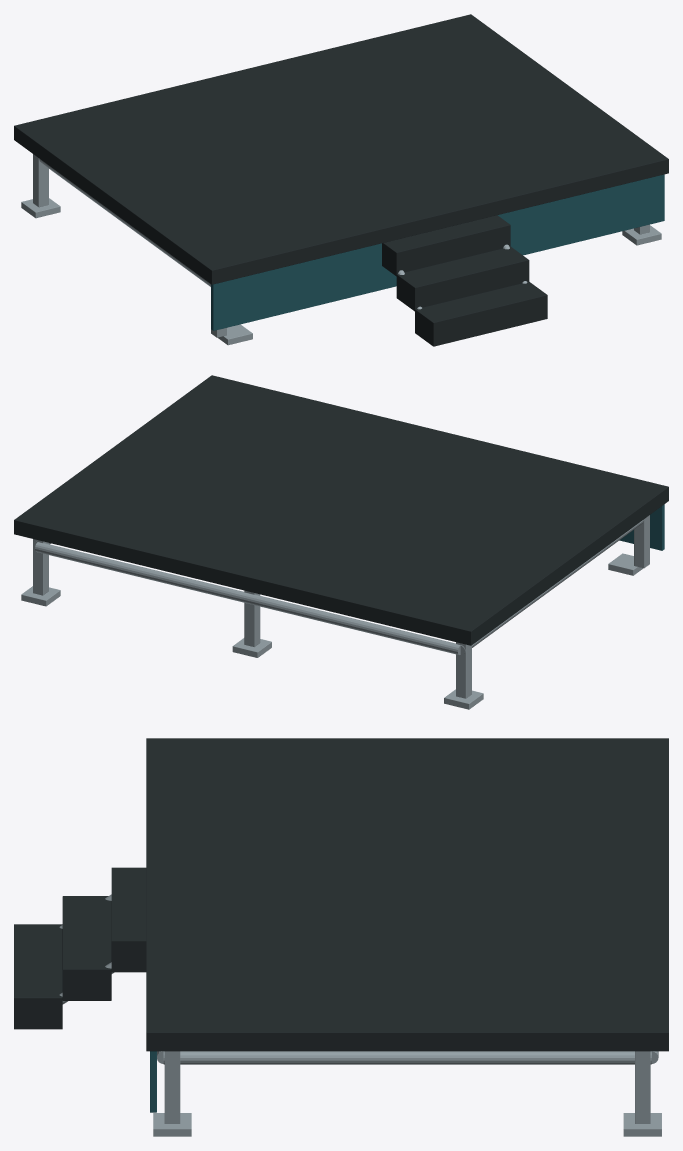
The model's file is source-edit.glb.
3 renders of one model, top to bottom at view 1: azimuth 30°, elevation 25°; view 2: azimuth 150°, elevation 25°; view 3: azimuth 270°, elevation 25°, orthographic. The views are drawn at different scales.
Visible parts, largest first — view 1: Modular_Deck, Front_Fascia, Stair_Tread, Stair_Tread.001, Stair_Tread.002, Support.001, Side_Truss; view 2: Modular_Deck, Long_Truss.001, Support.001, Support.003, Front_Fascia, Support, Support.005, Side_Truss; view 3: Modular_Deck, Side_Truss.001, Stair_Tread.001, Stair_Tread, Stair_Tread.002, Support.004, Support.005, Foot.004, Foot.005.
Part boxes in pixels (left/top/right/bottom): Modular_Deck: left=14, top=14, right=668, bottom=284; Front_Fascia: left=211, top=174, right=664, bottom=330; Stair_Tread: left=415, top=281, right=547, bottom=346; Stair_Tread.001: left=396, top=246, right=529, bottom=311; Stair_Tread.002: left=382, top=215, right=510, bottom=276; Support.001: left=33, top=154, right=48, bottom=207; Side_Truss: left=39, top=159, right=210, bottom=286; Modular_Deck: left=14, top=375, right=668, bottom=645; Long_Truss.001: left=35, top=542, right=460, bottom=654; Support.001: left=456, top=642, right=471, bottom=698; Support.003: left=244, top=590, right=260, bottom=646; Front_Fascia: left=619, top=504, right=664, bottom=550; Support: left=634, top=515, right=649, bottom=568; Support.005: left=33, top=539, right=48, bottom=595; Side_Truss: left=460, top=520, right=643, bottom=654; Modular_Deck: left=146, top=738, right=668, bottom=1051; Side_Truss.001: left=163, top=1051, right=651, bottom=1064; Stair_Tread.001: left=62, top=896, right=111, bottom=1000; Stair_Tread: left=14, top=924, right=62, bottom=1029; Stair_Tread.002: left=111, top=867, right=146, bottom=972; Support.004: left=164, top=1051, right=180, bottom=1123; Support.005: left=635, top=1051, right=650, bottom=1123; Foot.004: left=153, top=1113, right=191, bottom=1136; Foot.005: left=623, top=1113, right=661, bottom=1136.
Bounding box in the file's own units: 4 × 0.68 × 3.76.
